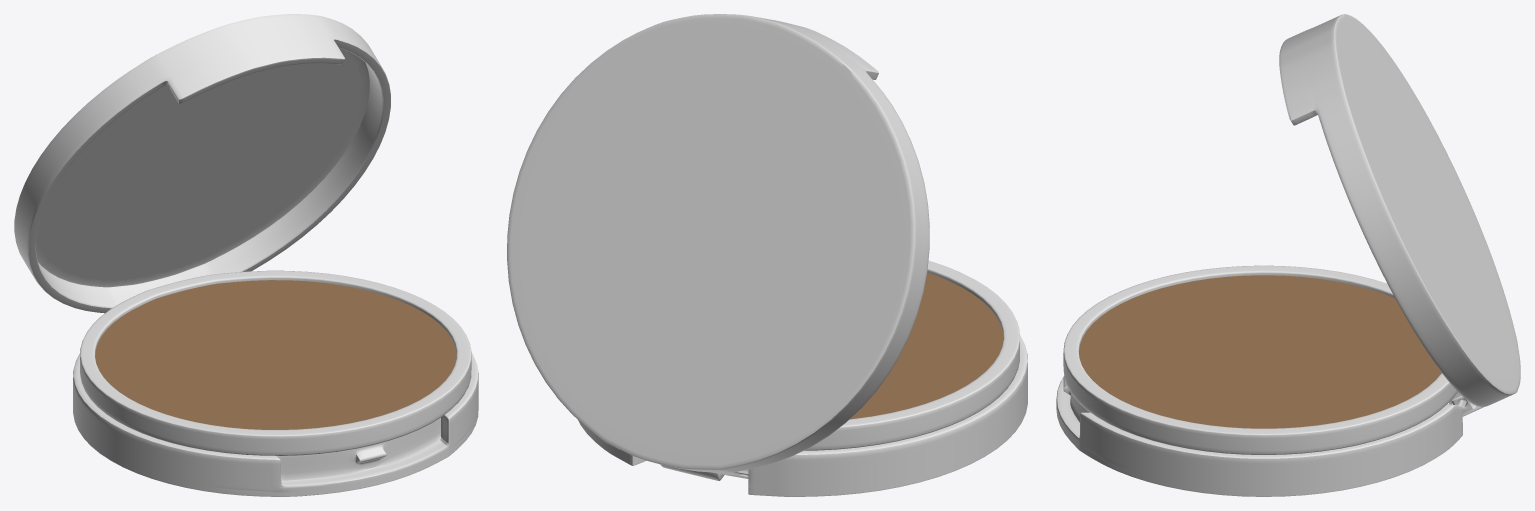
File: NEW_PROJECT_MAKEUP_BOX_WHITE.fbx
3 views of the same model, side by side, from view 1: azimuth 30°, elevation 25°; view 2: azimuth 150°, elevation 25°; view 3: azimuth 270°, elevation 25° (orthographic). The views are drawn at different scales.
Visible parts, largest first — view 1: Circle.001, Circle.003, Circle, Circle.002; view 2: Circle.001, Circle, Circle.003, Circle.002; view 3: Circle.003, Circle.001, Circle, Circle.002.
Boxes of the visible parts, x1=… form: Circle.001: x1=14, y1=14, x2=390, y2=313; Circle.003: x1=95, y1=280, x2=456, y2=429; Circle: x1=73, y1=353, x2=478, y2=496; Circle.002: x1=80, y1=270, x2=471, y2=455; Circle.001: x1=507, y1=14, x2=929, y2=475; Circle: x1=578, y1=335, x2=1027, y2=496; Circle.003: x1=850, y1=272, x2=1003, y2=419; Circle.002: x1=660, y1=260, x2=1019, y2=480; Circle.003: x1=1079, y1=275, x2=1441, y2=428; Circle.001: x1=1279, y1=14, x2=1520, y2=416; Circle: x1=1056, y1=376, x2=1462, y2=496; Circle.002: x1=1063, y1=265, x2=1465, y2=454.
Bounding box in the file's own units: 169 × 168 × 189.
